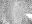person: (24, 14, 31, 18)
